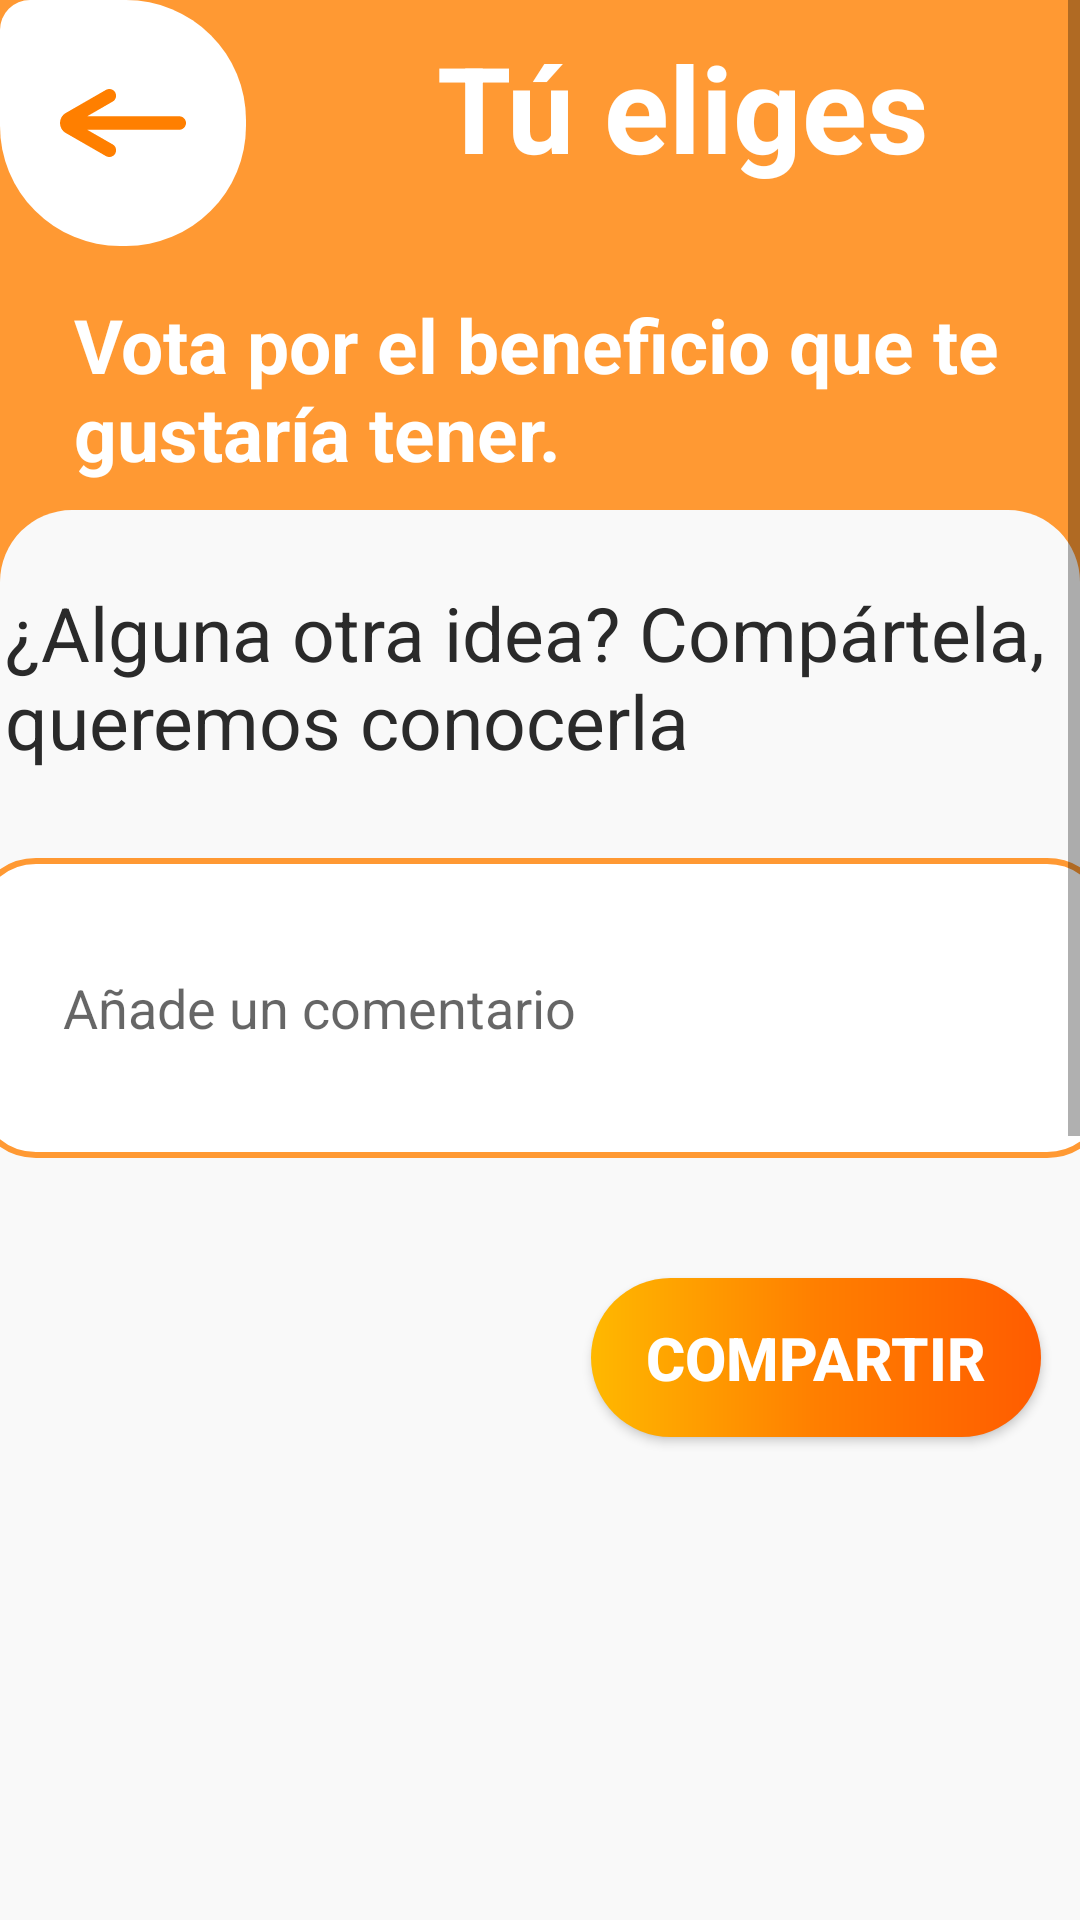

Icon bounding boxes for this 1080×1920 phone screenshot, format (x1, y1, x2, y2):
backarrow: (0, 0, 246, 246)
